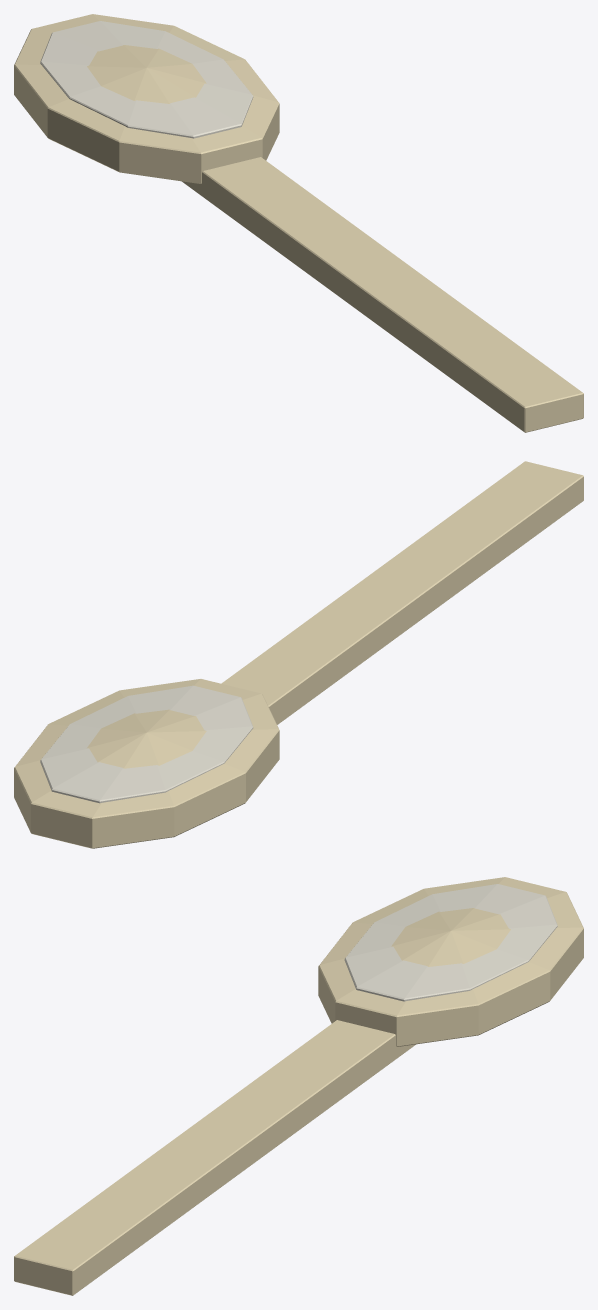
File: b16_disposable_plastic_spoon.glb
3 views of the same model, one above another, from view 1: azimuth 30°, elevation 25°; view 2: azimuth 150°, elevation 25°; view 3: azimuth 330°, elevation 25° (orthographic).
Parts seen in each view (by area): view 1: b16_disposable_plastic_spoon; view 2: b16_disposable_plastic_spoon; view 3: b16_disposable_plastic_spoon.
Boxes of the visible parts, x1=… form: b16_disposable_plastic_spoon: x1=14, y1=14, x2=583, y2=432; b16_disposable_plastic_spoon: x1=14, y1=461, x2=583, y2=848; b16_disposable_plastic_spoon: x1=14, y1=877, x2=583, y2=1295.
Bounding box in the file's own units: 0.0398 × 0.012 × 0.1717.
